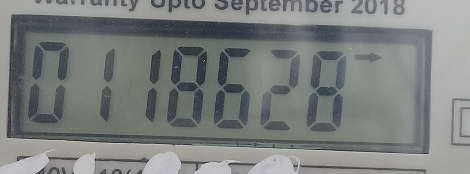digit: (304, 43, 348, 137), (75, 39, 121, 125), (27, 31, 67, 129), (258, 43, 300, 135), (163, 41, 206, 129), (125, 41, 165, 131), (213, 43, 250, 133)
